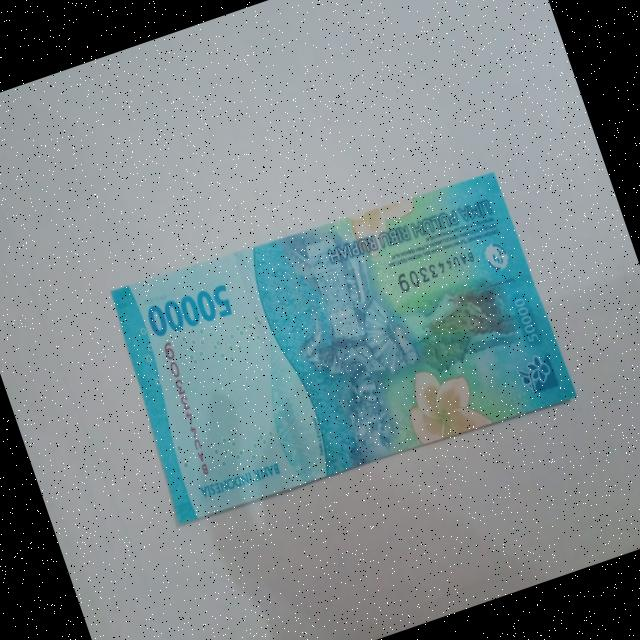50K: (95, 144, 584, 548)
